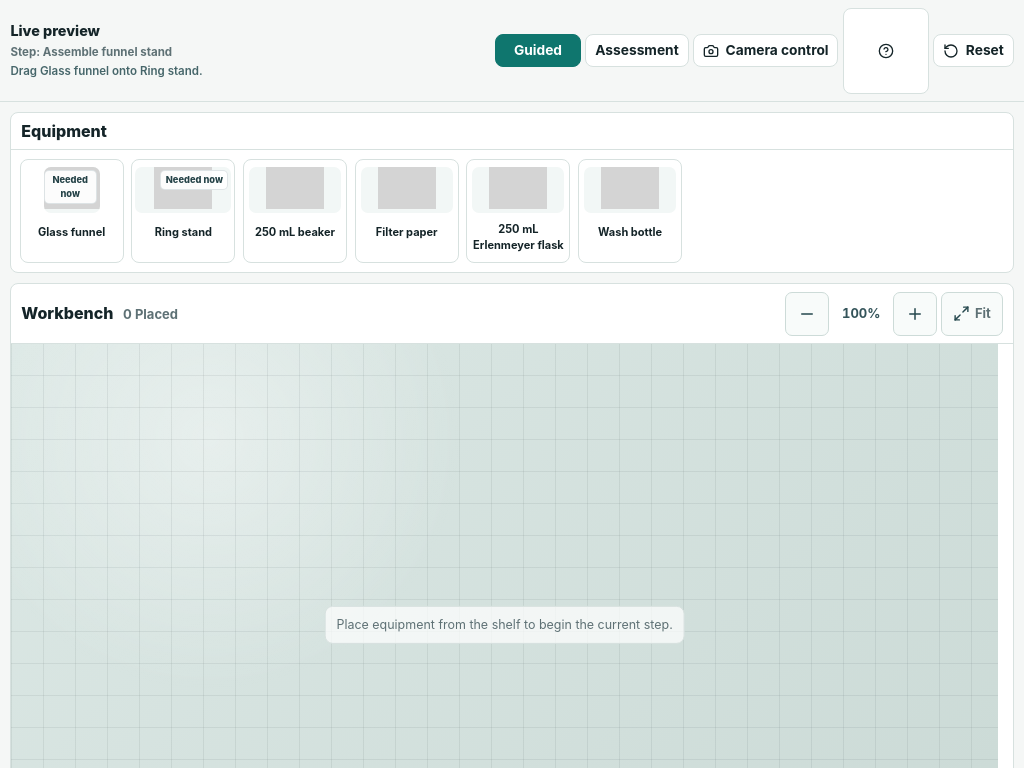
it: StudentPlayer › renders compact preview chrome without the lab title
expect the heading "Live preview" is shown: met, box [10,23,100,40]
expect the text "Step: Assemble funnel stand" is shown: met, box [10,45,172,59]
Click the button "Assessment": click(637, 51) [586,34,688,67]
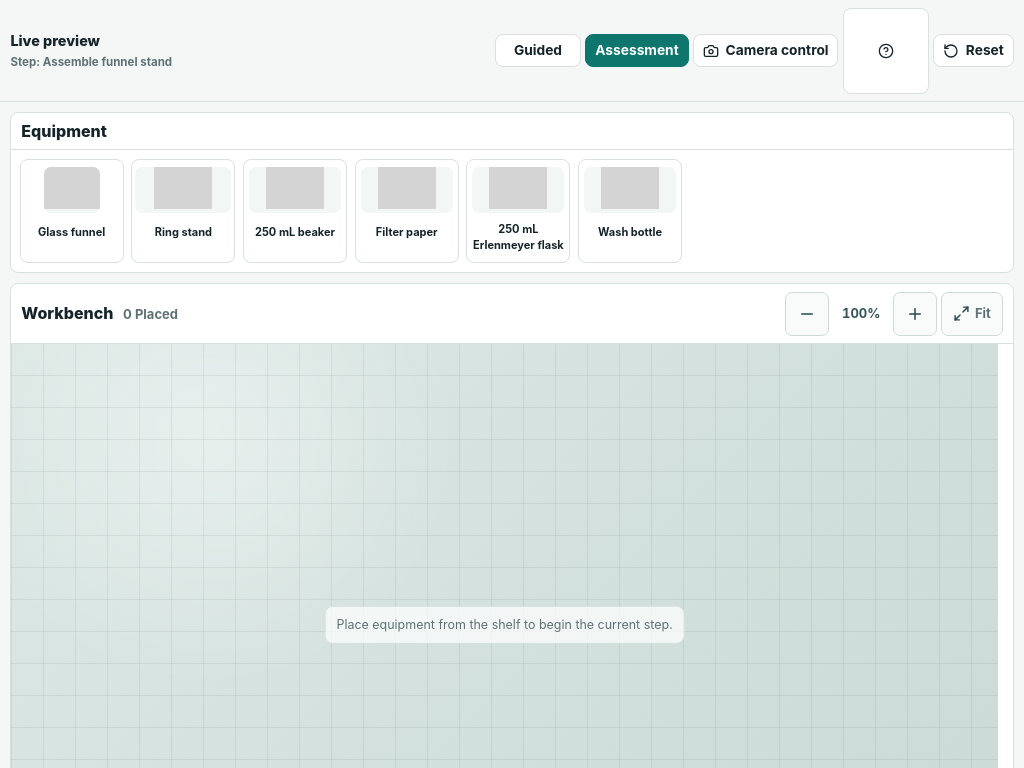
expect the button "Reset" is shown: met, box [933,34,1014,67]
expect the text "Drag Glass funnel onto Ring stand" is gone: met
